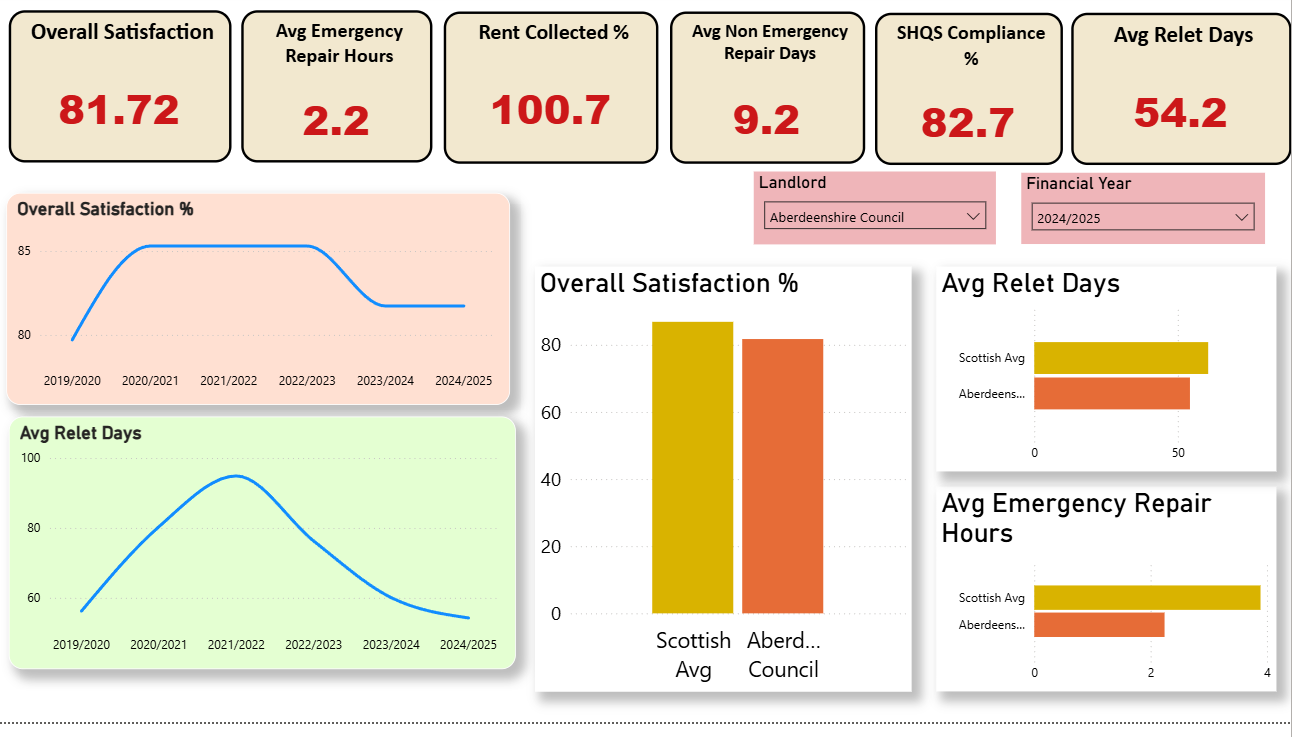

The dashboard page shown, as its layout file describes it:
{"tool":"powerbi","page":{"name":"Page 1","canvas":[1280,720],"ordinal":0},"visuals":[{"type":"slicer","title":"Financial Year","fields":{"Values":["Cleaned charter_public.Financial Year"]},"box":[1013,177,240.4,70.8],"z":0},{"type":"lineChart","title":"Overall Satisfaction %","fields":{"Y":["Cleaned charter_public.Avg Overall Satisfaction %"],"Category":["Cleaned charter_public.Financial Year"]},"box":[11.6,196.5,497.7,209.3],"z":1000},{"type":"lineChart","title":"Avg Relet Days","fields":{"Category":["Cleaned charter_public.Financial Year"],"Y":["Cleaned charter_public.Avg Relet Days"]},"box":[14,416.9,500.6,249.4],"z":2000},{"type":"clusteredColumnChart","title":"Overall Satisfaction %","fields":{"Category":["Cleaned charter_public.Landlord name"],"Y":["Cleaned charter_public.Avg Overall Satisfaction %"]},"box":[533.3,269.1,371.6,419.8],"z":3000},{"type":"cardVisual","title":"Avg Emergency Repair Hours","fields":{"Data":["Cleaned charter_public.Avg Emergency repair hours"]},"box":[242.9,15.9,189.2,150.1],"z":4000},{"type":"cardVisual","title":"Avg Non Emergency Repair Days","fields":{"Data":["Cleaned charter_public.Avg Non Emergency Repair Days"]},"box":[666.4,17.1,192.8,150.1],"z":5000},{"type":"cardVisual","title":"Overall Satisfaction","fields":{"Data":["Cleaned charter_public.Avg Overall Satisfaction %"]},"box":[13.4,15.9,219.7,150.1],"z":6000},{"type":"cardVisual","title":"Avg Relet Days","fields":{"Data":["Cleaned charter_public.Avg Relet Days"]},"box":[1063,18.3,217.2,150.1],"z":7000},{"type":"cardVisual","title":"Rent Collected %","fields":{"Data":["Cleaned charter_public.Avg Rent Collected %"]},"box":[443,17.1,212.4,150.1],"z":8000},{"type":"cardVisual","title":"SHQS Compliance %","fields":{"Data":["Cleaned charter_public.Avg SHQS Compliance %"]},"box":[869,18.3,185.5,150.1],"z":9000},{"type":"slicer","title":"Landlord","fields":{"Values":["Cleaned charter_public.Landlord name"]},"box":[749.4,175.3,239.5,71.6],"z":9001},{"type":"clusteredBarChart","title":"Avg Emergency Repair Hours","fields":{"Category":["Cleaned charter_public.Landlord name"],"Y":["Cleaned charter_public.Avg Emergency repair hours"]},"box":[929.6,486.4,335.8,202.5],"z":9002},{"type":"clusteredBarChart","title":"Avg Relet Days","fields":{"Category":["Cleaned charter_public.Landlord name"],"Y":["Cleaned charter_public.Avg Relet Days"]},"box":[929.6,269.1,335.8,202.5],"z":9004}]}

Visuals, with their boxes in screenshot pixels (x1, y1, x2, y2), scaled from the page's 1280x720 canvas onto the 1292x737 screenshot:
"Financial Year" slicer: <bbox>1022, 181, 1265, 254</bbox>
"Overall Satisfaction %" lineChart: <bbox>12, 201, 514, 415</bbox>
"Avg Relet Days" lineChart: <bbox>14, 427, 519, 682</bbox>
"Overall Satisfaction %" clusteredColumnChart: <bbox>538, 275, 913, 705</bbox>
"Avg Emergency Repair Hours" cardVisual: <bbox>245, 16, 436, 170</bbox>
"Avg Non Emergency Repair Days" cardVisual: <bbox>673, 18, 867, 171</bbox>
"Overall Satisfaction" cardVisual: <bbox>14, 16, 235, 170</bbox>
"Avg Relet Days" cardVisual: <bbox>1073, 19, 1291, 172</bbox>
"Rent Collected %" cardVisual: <bbox>447, 18, 662, 171</bbox>
"SHQS Compliance %" cardVisual: <bbox>877, 19, 1064, 172</bbox>
"Landlord" slicer: <bbox>756, 179, 998, 253</bbox>
"Avg Emergency Repair Hours" clusteredBarChart: <bbox>938, 498, 1277, 705</bbox>
"Avg Relet Days" clusteredBarChart: <bbox>938, 275, 1277, 483</bbox>
